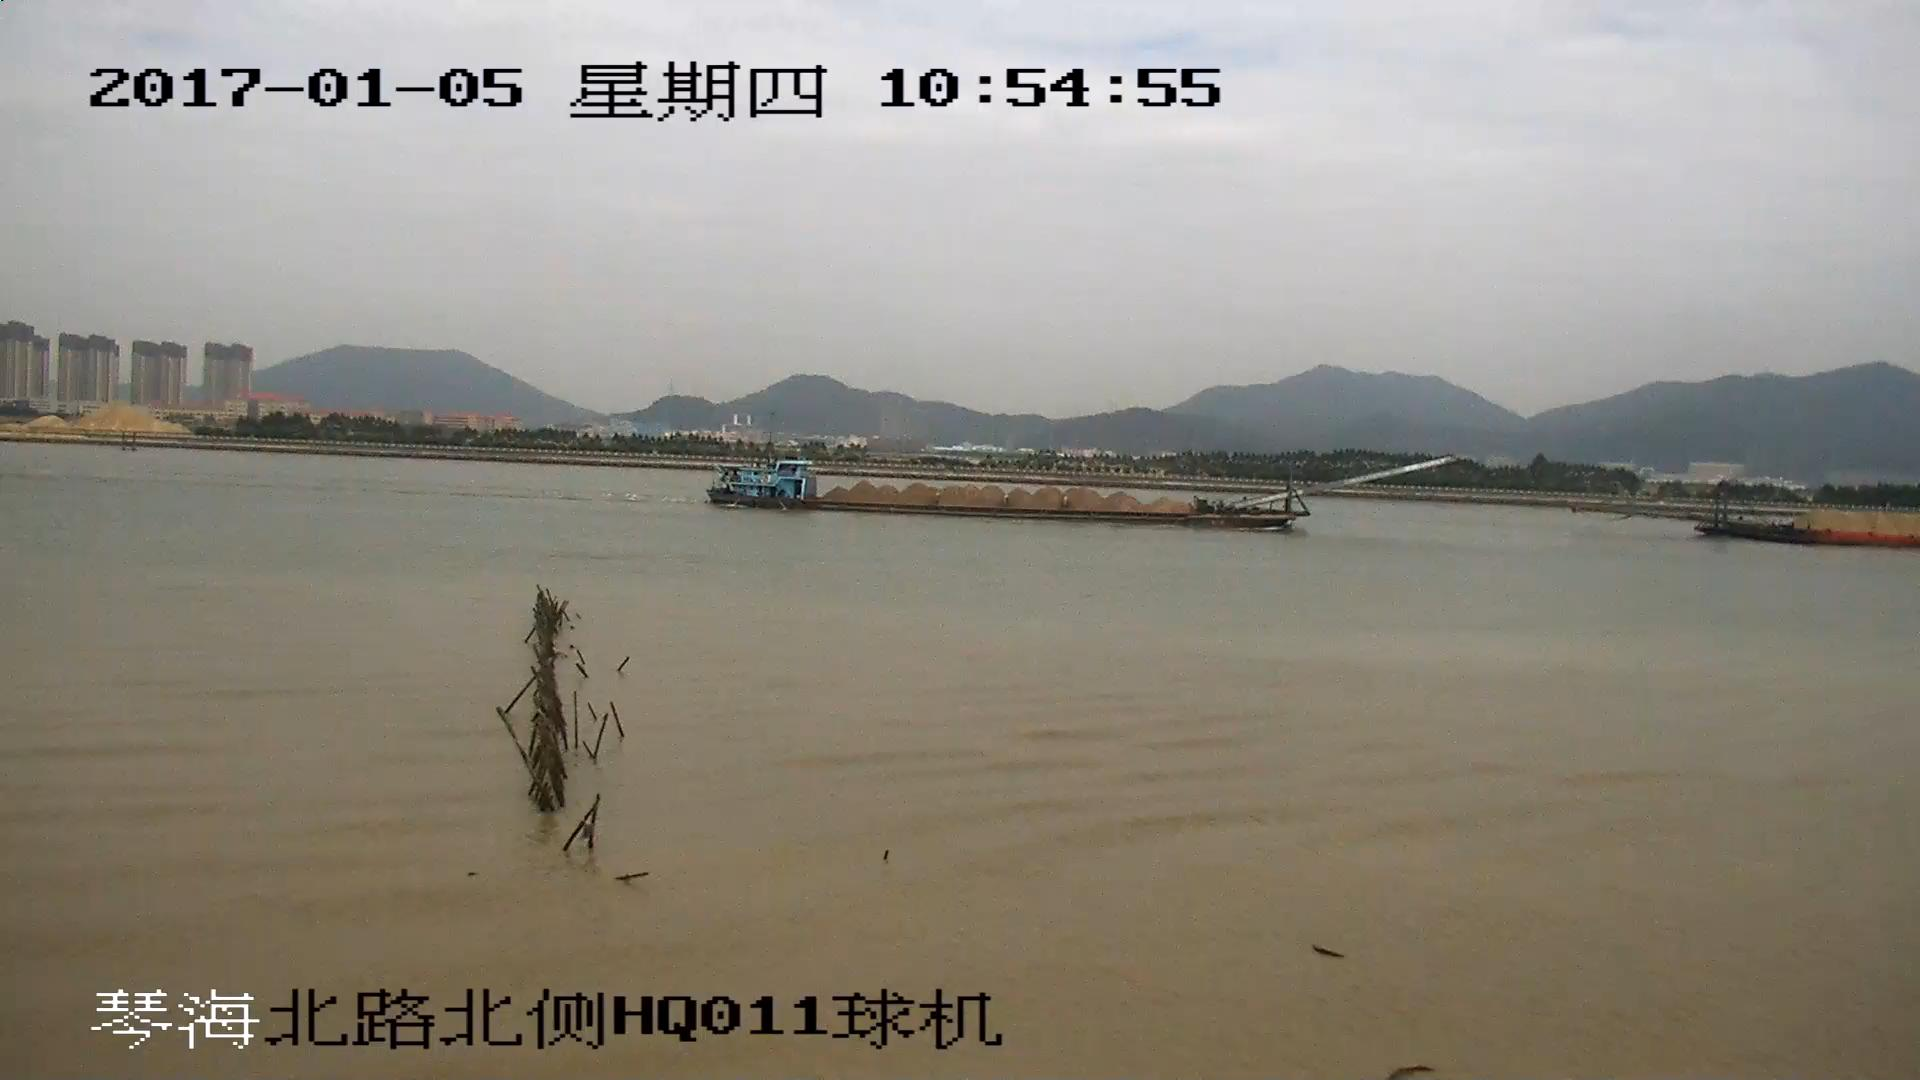ore carrier: (712, 454, 1458, 524), (1588, 484, 1920, 545)
